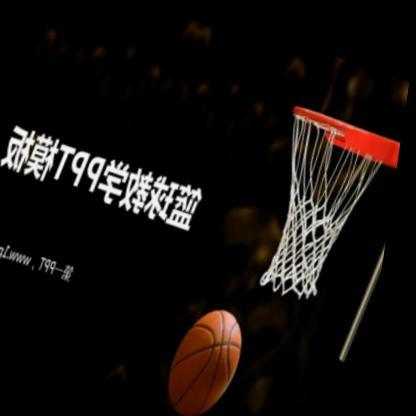basketball: (164, 294, 267, 416)
rim: (230, 94, 404, 310)
